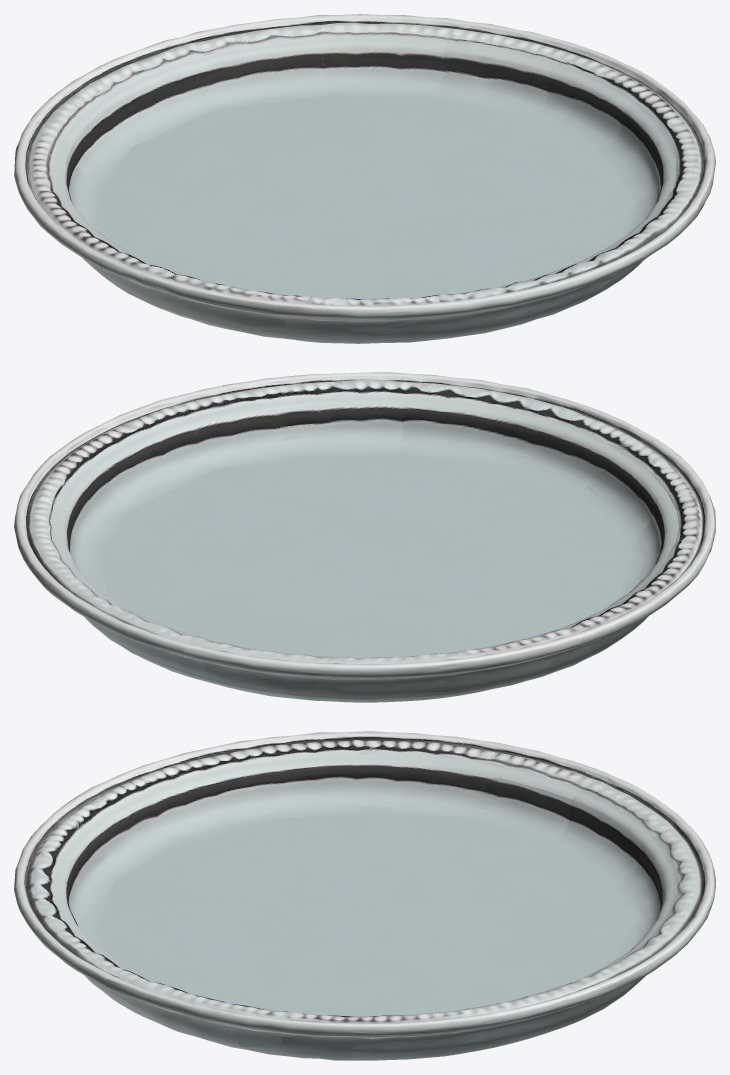
Rendered from prop_serving_tray_silver.glb.
3 renders of one model, top to bottom at view 1: azimuth 30°, elevation 25°; view 2: azimuth 150°, elevation 25°; view 3: azimuth 270°, elevation 25°, orthographic.
Size of the model in its own units: 1.9 by 0.1957 by 1.91.
1 material, 1 textured.
